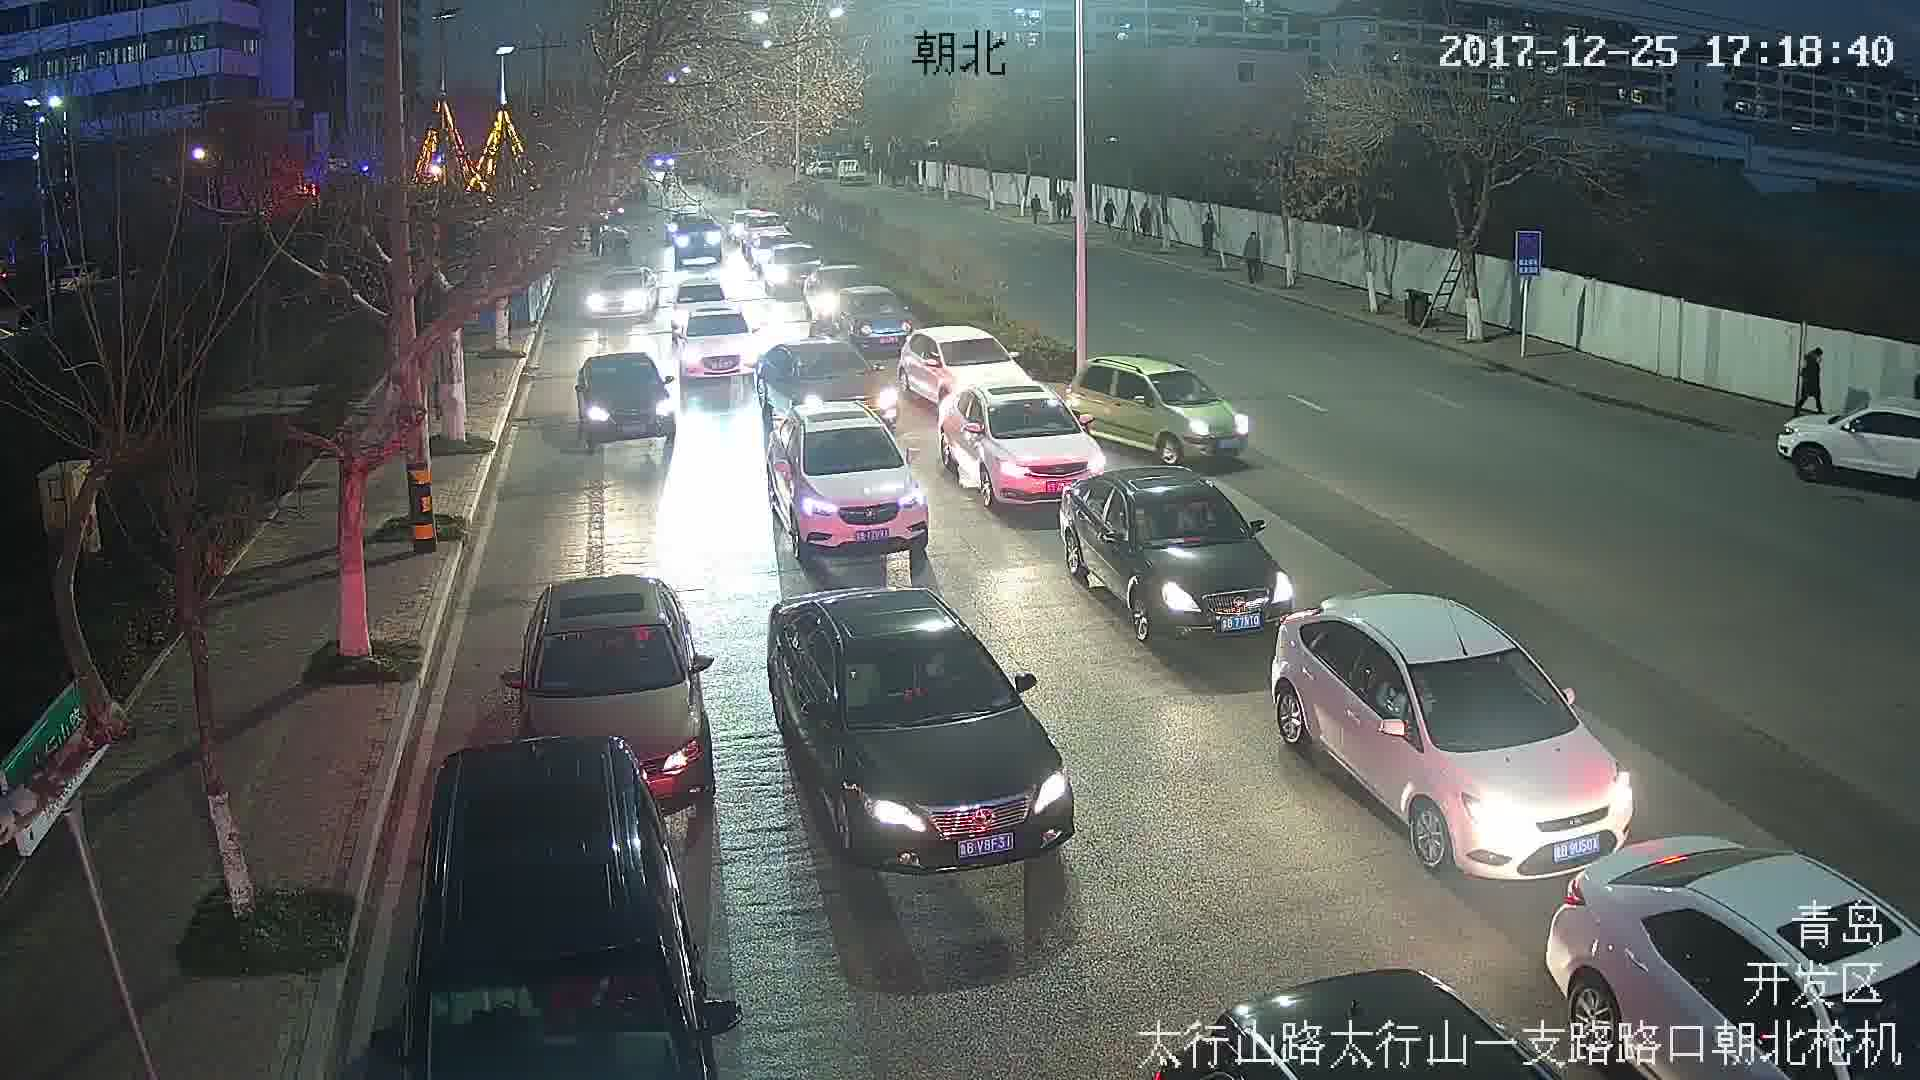car: (1271, 591, 1638, 885), (768, 589, 1071, 875), (502, 581, 720, 809), (1064, 474, 1292, 639), (763, 407, 934, 552), (1066, 355, 1262, 469), (941, 391, 1107, 506), (756, 345, 905, 430), (898, 331, 1043, 399), (575, 349, 677, 445), (680, 309, 760, 378), (591, 263, 660, 317)
person: (1800, 341, 1828, 409), (1238, 232, 1263, 281)
